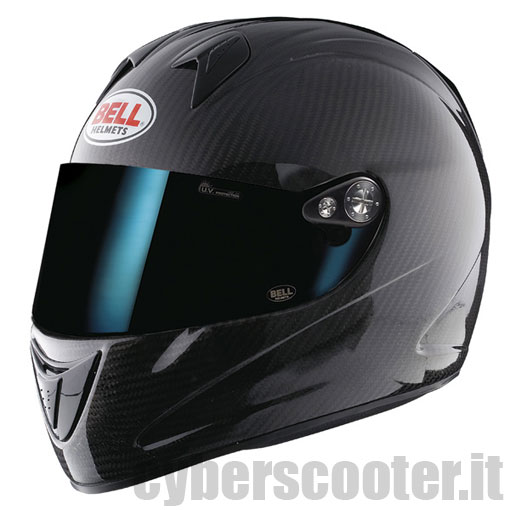helmet: (37, 11, 489, 457)
